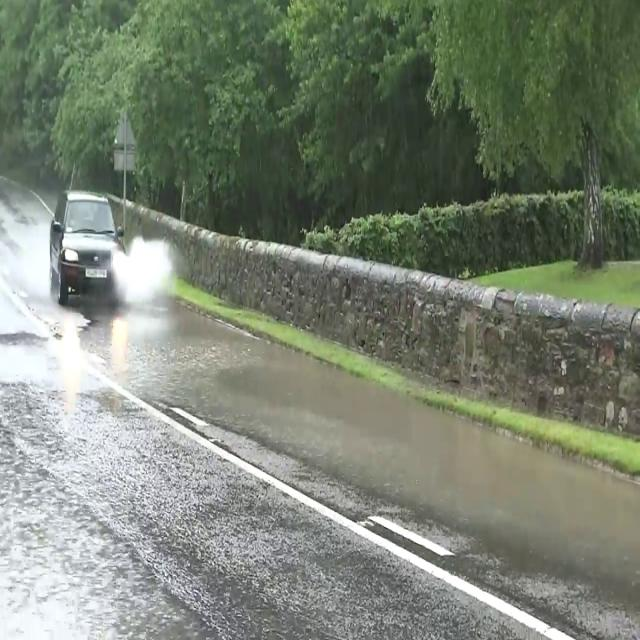license-plate-annotation: (83, 266, 110, 282)
